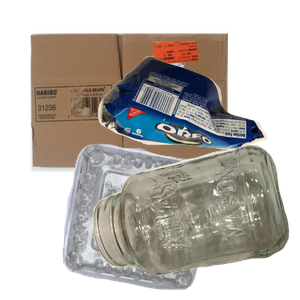cardboard: (28, 31, 249, 195)
glass: (91, 143, 300, 300)
plastic: (60, 141, 263, 300)
trash: (95, 53, 300, 195)
